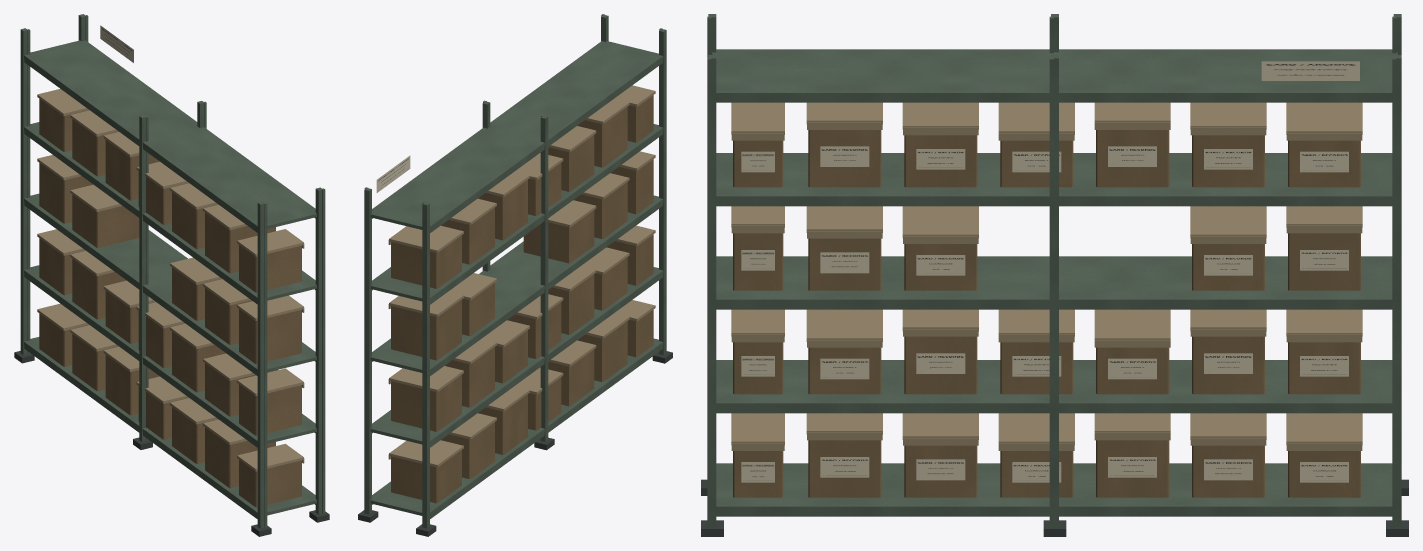
Rendered from SM_ArchiveProps_ShelvingStorage_LOD2.fbx.
The picture shows the model from 3 angles, left to right: view 1: azimuth 30°, elevation 25°; view 2: azimuth 150°, elevation 25°; view 3: azimuth 270°, elevation 25°; orthographic projection. The views are drawn at different scales.
Parts seen in each view (by area): view 1: SM_ArchiveProps_ShelvingStorage_LOD2; view 2: SM_ArchiveProps_ShelvingStorage_LOD2; view 3: SM_ArchiveProps_ShelvingStorage_LOD2.
Part boxes in pixels (<box>): SM_ArchiveProps_ShelvingStorage_LOD2: <box>14,14,329,536</box>; SM_ArchiveProps_ShelvingStorage_LOD2: <box>358,14,672,536</box>; SM_ArchiveProps_ShelvingStorage_LOD2: <box>701,14,1408,536</box>.
Size of the model in its own units: 0.514 by 3.1 by 2.3.
